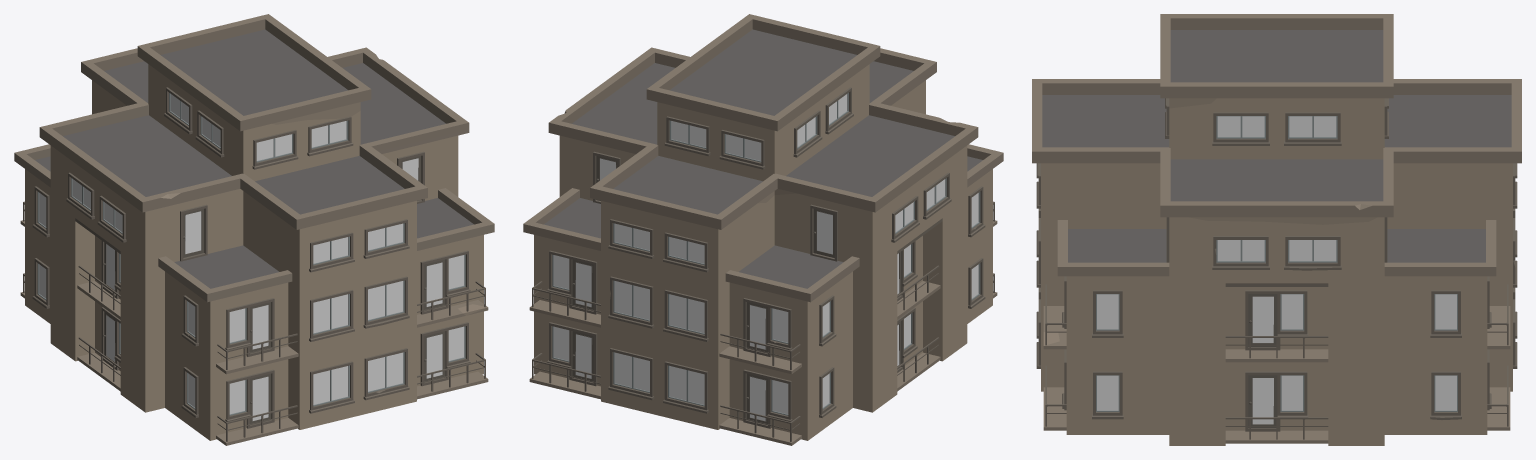
The model's file is SM_Bldg_City_Commercial_01_Roof.fbx.
The picture shows the model from 3 angles, left to right: view 1: azimuth 30°, elevation 25°; view 2: azimuth 150°, elevation 25°; view 3: azimuth 270°, elevation 25°; orthographic projection. The views are drawn at different scales.
Visible parts, largest first — view 1: SM_Bldg_City_Commercial_01_Roof, SM_Bldg_City_Commercial_01_Roof_Glass; view 2: SM_Bldg_City_Commercial_01_Roof, SM_Bldg_City_Commercial_01_Roof_Glass; view 3: SM_Bldg_City_Commercial_01_Roof, SM_Bldg_City_Commercial_01_Roof_Glass.
Part boxes in pixels (x1,y1,x2,y2): SM_Bldg_City_Commercial_01_Roof: [14, 14, 494, 445]; SM_Bldg_City_Commercial_01_Roof_Glass: [39, 94, 464, 414]; SM_Bldg_City_Commercial_01_Roof: [523, 14, 1003, 445]; SM_Bldg_City_Commercial_01_Roof_Glass: [553, 94, 978, 414]; SM_Bldg_City_Commercial_01_Roof: [1032, 14, 1521, 445]; SM_Bldg_City_Commercial_01_Roof_Glass: [1097, 116, 1456, 410].
Bounding box in the file's own units: 1670 × 1330 × 1910.
